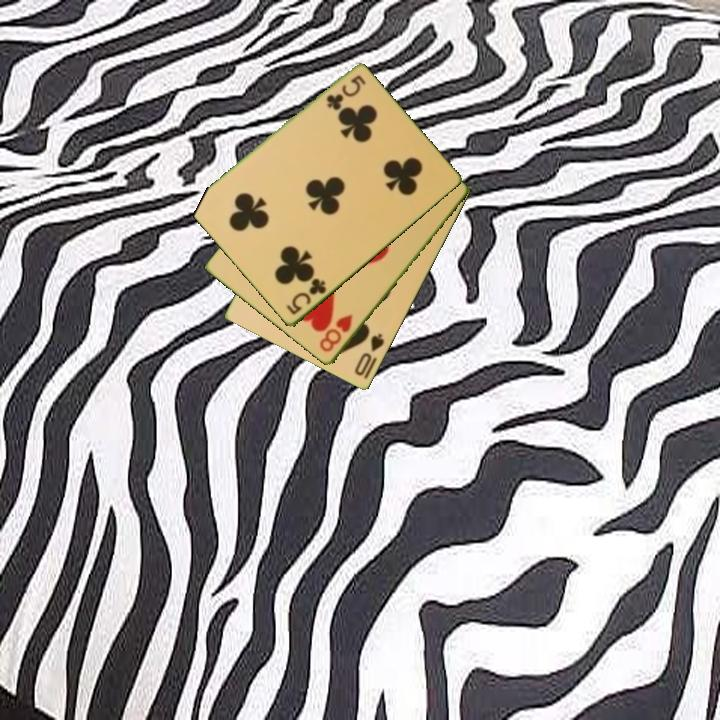10s: (351, 330, 388, 379)
5c: (283, 275, 329, 318), (323, 72, 368, 113)
8h: (316, 311, 356, 355)
